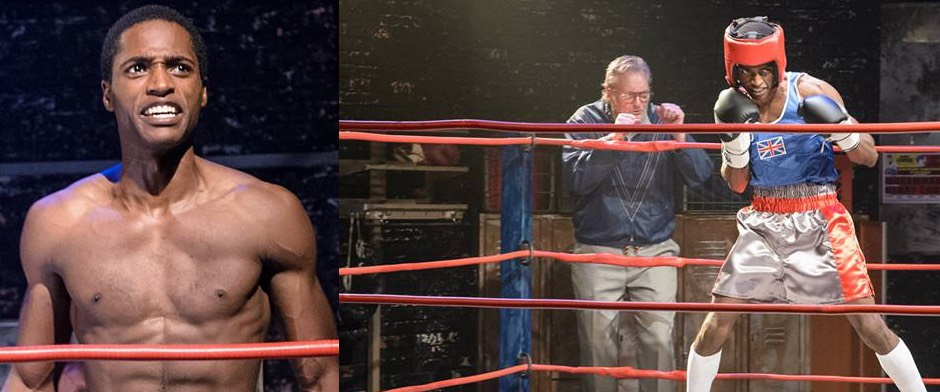bad: (116, 46, 205, 136), (617, 86, 653, 122)
